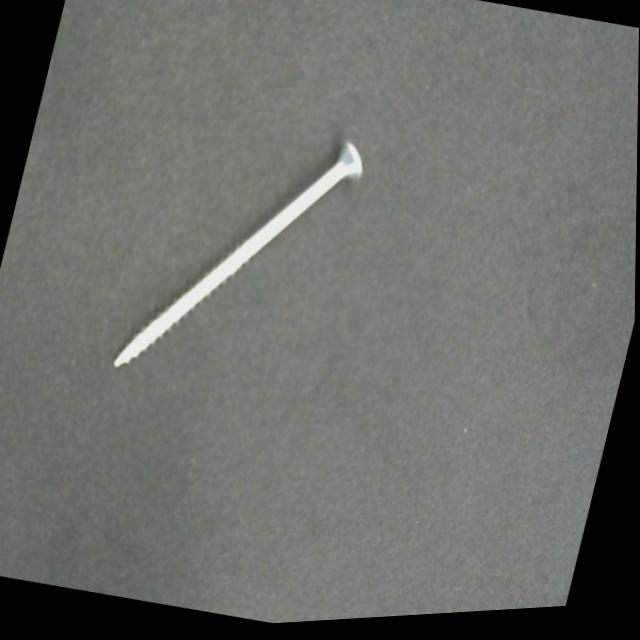WoodScrew: (111, 101, 373, 417)
